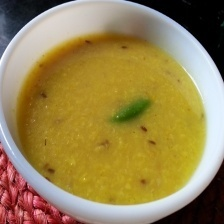dal: (16, 31, 207, 206)
